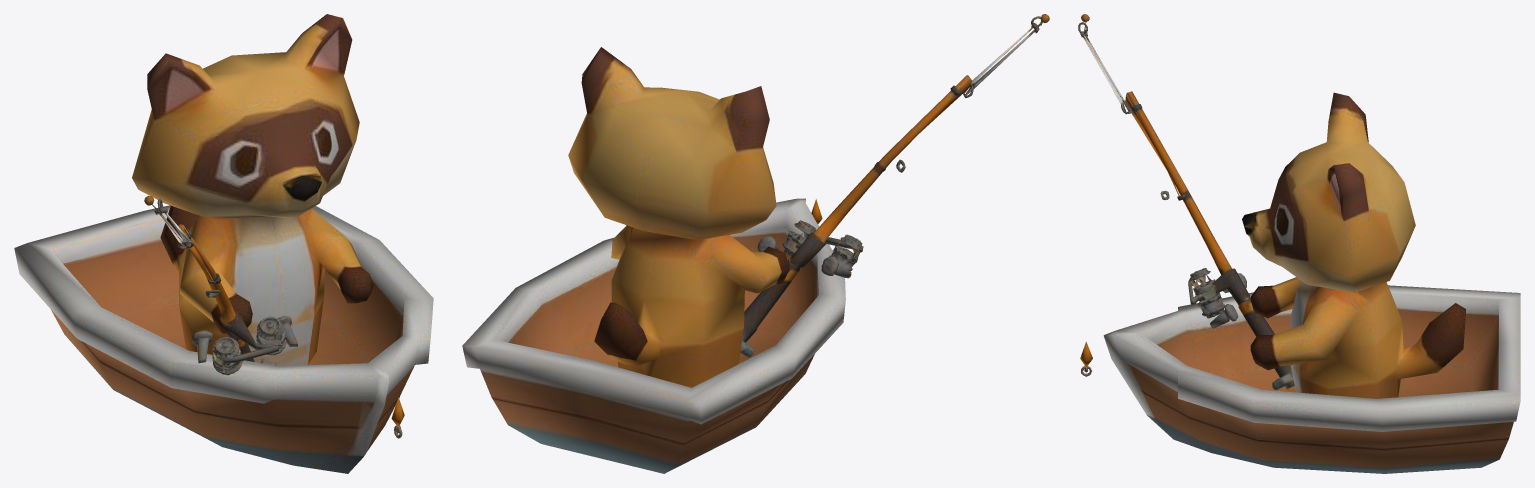
The model's file is barque-2.glb.
The picture shows the model from 3 angles, left to right: view 1: azimuth 30°, elevation 25°; view 2: azimuth 150°, elevation 25°; view 3: azimuth 270°, elevation 25°; orthographic projection. The views are drawn at different scales.
Visible parts, largest first — view 1: tripo_node_12a6cbb3-31c3-4cca-954e-e1f2e740a32a; view 2: tripo_node_12a6cbb3-31c3-4cca-954e-e1f2e740a32a; view 3: tripo_node_12a6cbb3-31c3-4cca-954e-e1f2e740a32a.
Part boxes in pixels (<box>): tripo_node_12a6cbb3-31c3-4cca-954e-e1f2e740a32a: <box>14,14,433,473</box>; tripo_node_12a6cbb3-31c3-4cca-954e-e1f2e740a32a: <box>462,14,1049,473</box>; tripo_node_12a6cbb3-31c3-4cca-954e-e1f2e740a32a: <box>1078,14,1520,473</box>.
Size of the model in its own units: 0.4548 by 0.4 by 0.4998.
Materials: 1 (1 with a texture image).
